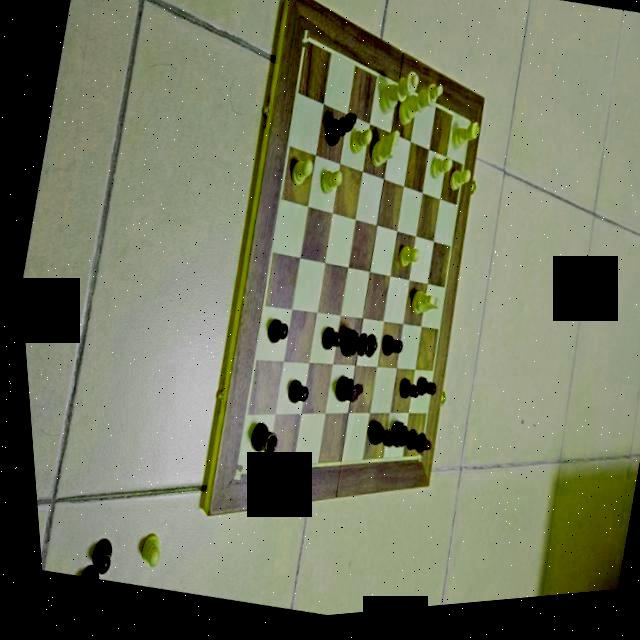chess-table-corners: (296, 34, 308, 53), (222, 467, 235, 484), (407, 458, 416, 469), (464, 126, 468, 133)
